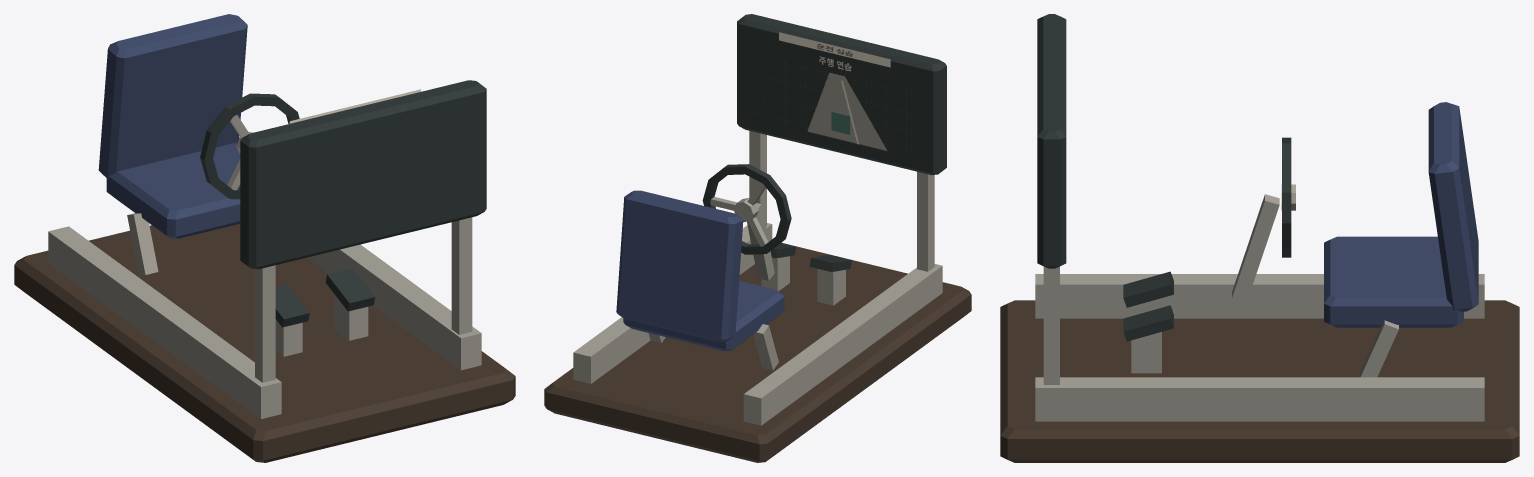
Rendered from T01_Driving_Simulator.fbx.
The picture shows the model from 3 angles, left to right: view 1: azimuth 30°, elevation 25°; view 2: azimuth 150°, elevation 25°; view 3: azimuth 270°, elevation 25°; orthographic projection. The views are drawn at different scales.
Visible parts, largest first — view 1: Structure, Seat, Steering; view 2: Structure, Seat, Screen, Steering, Title; view 3: Structure, Seat, Steering.
Part boxes in pixels (x1,y1,x2,y2): Structure: (14,80,515,462); Seat: (98,14,247,275); Steering: (200,93,299,199); Structure: (544,14,971,462); Seat: (616,190,784,370); Screen: (745,33,924,164); Steering: (702,164,791,254); Title: (779,32,890,67); Structure: (1000,14,1519,462); Seat: (1324,102,1478,377); Steering: (1281,137,1295,257).
Size of the model in its own units: 1.6 by 1.8 by 2.6.
Materials: 5 (1 with a texture image).
